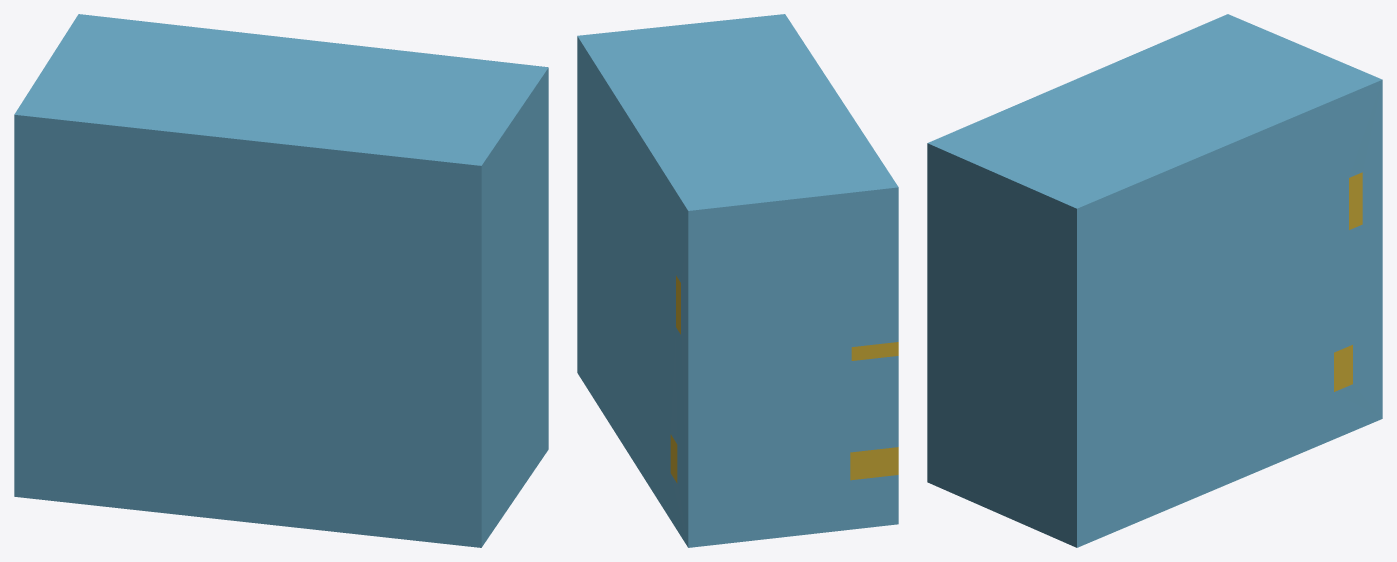
Rendered from bldg_7966a1cc-c515-47ad-aaf0-6bb1de07f588.obj.
3 views of the same model, side by side, from view 1: azimuth 30°, elevation 25°; view 2: azimuth 150°, elevation 25°; view 3: azimuth 270°, elevation 25° (orthographic). The views are drawn at different scales.
Size of the model in its own units: 10.95 by 8.89 by 10.82.
